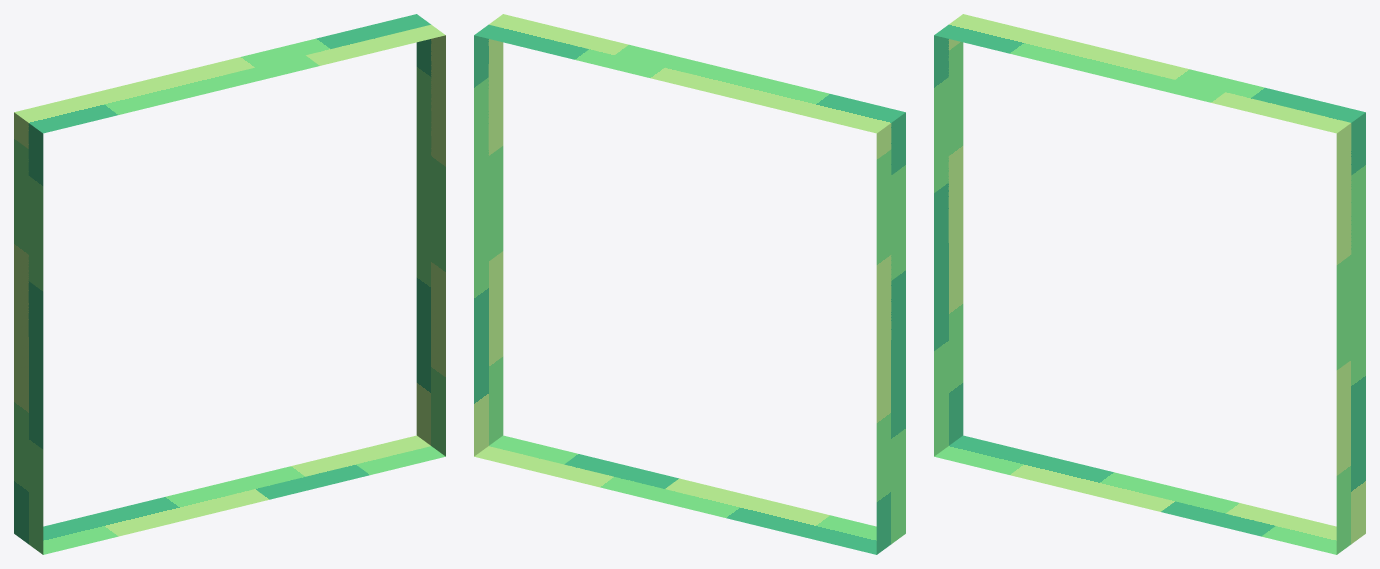
Rendered from DashTrail.fbx.
3 views of the same model, side by side, from view 1: azimuth 30°, elevation 25°; view 2: azimuth 150°, elevation 25°; view 3: azimuth 330°, elevation 25° (orthographic).
Visible parts, largest first — view 1: cuboid_1; view 2: cuboid_1; view 3: cuboid_1.
Boxes of the visible parts, bbox=[...] form: cuboid_1: bbox=[14, 14, 445, 554]; cuboid_1: bbox=[474, 14, 905, 554]; cuboid_1: bbox=[934, 14, 1365, 554].
Size of the model in its own units: 100 by 100 by 12.5.
1 material, 1 textured.
